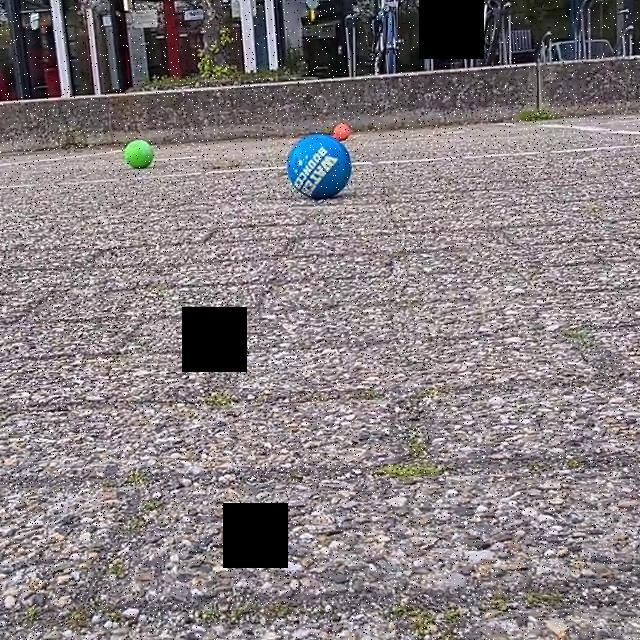ball: (122, 137, 154, 171), (330, 120, 355, 140)
